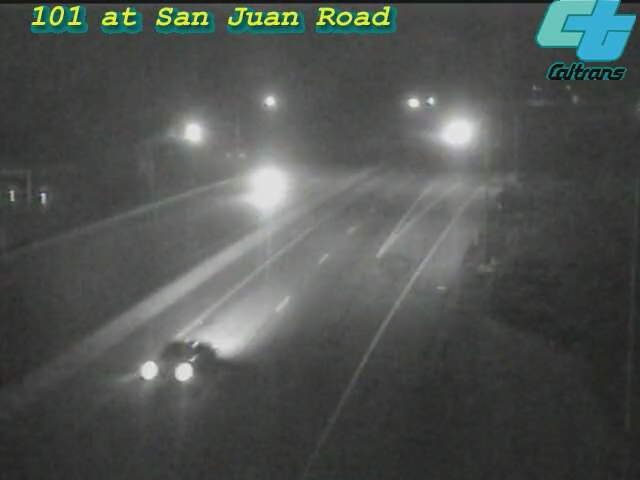vehicle: (128, 308, 238, 418), (229, 145, 309, 225), (434, 107, 484, 157)
